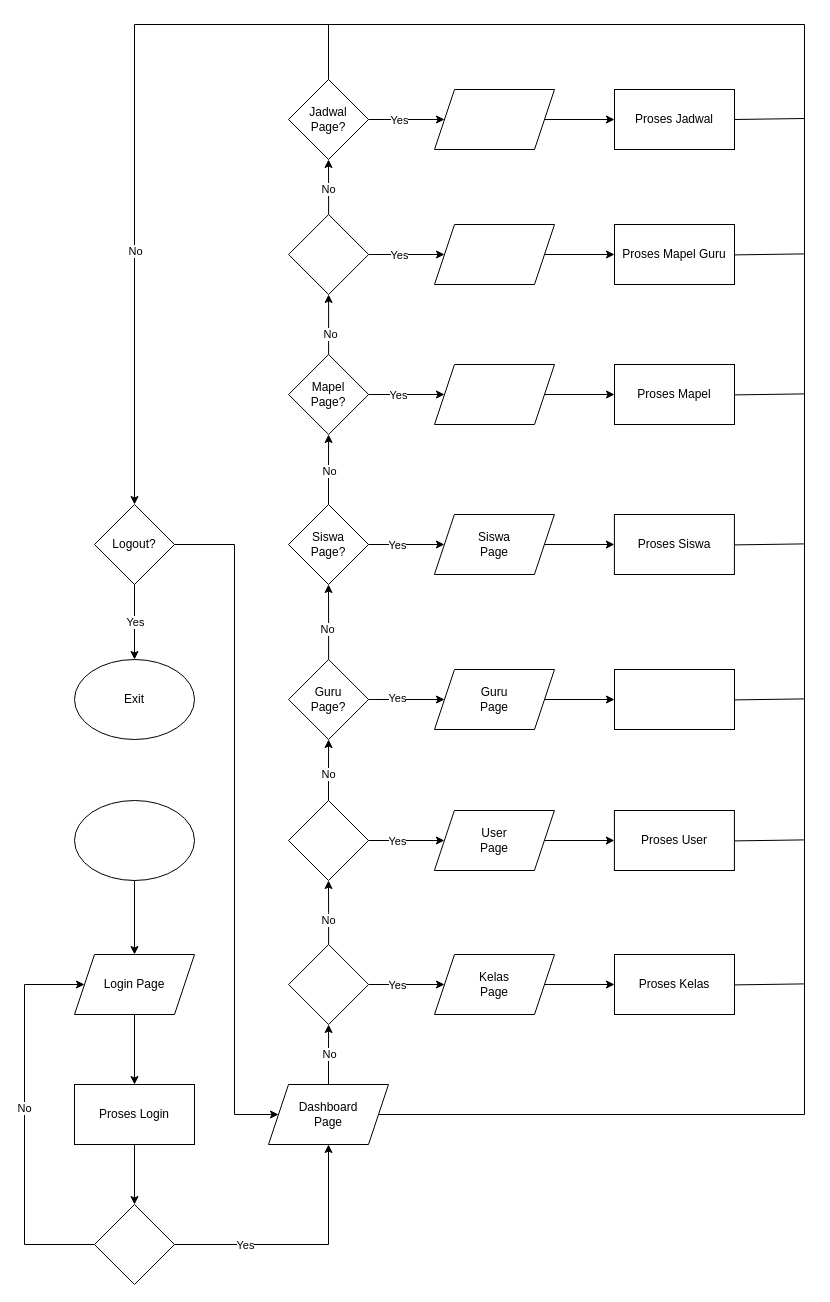
Image size: 830x1302. Some labels were removed from this diagram. Here are the shapes that lost their labels. From the top down, the centre of each, then its label:
At (x=494, y=119): "Jadwal Page".
At (x=328, y=254): "Mapel Guru Page?".
At (x=494, y=254): "Mapel Guru Page".
At (x=494, y=394): "Mapel Page".
At (x=674, y=699): "Proses Guru".
At (x=134, y=840): "Start".
At (x=328, y=840): "User Page?".
At (x=328, y=984): "Kelas Page?".
At (x=134, y=1244): "Verified?".
